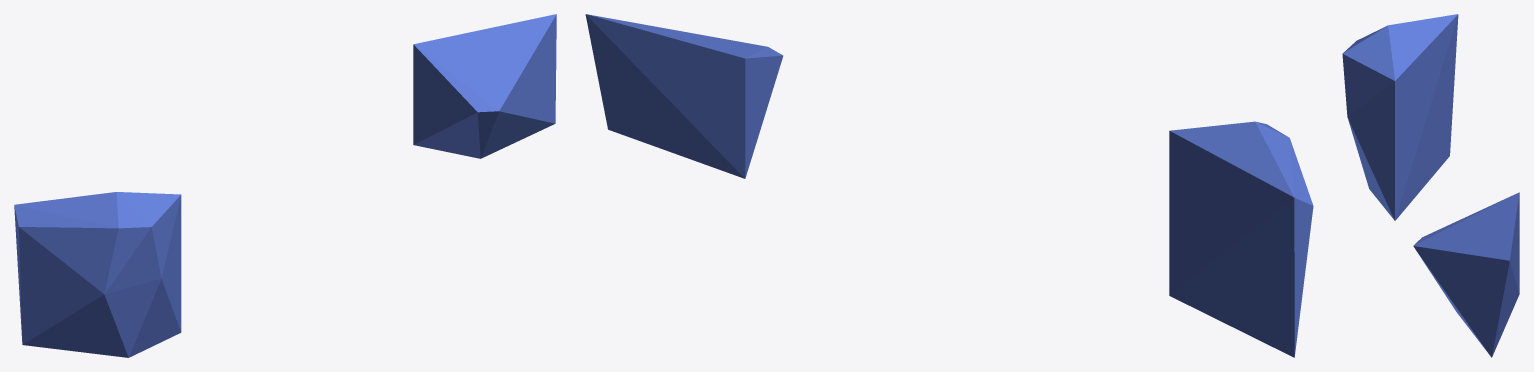
File: Cliff_Wall_In_02_Collider_01.FBX
3 views of the same model, side by side, from view 1: azimuth 30°, elevation 25°; view 2: azimuth 150°, elevation 25°; view 3: azimuth 270°, elevation 25° (orthographic). The views are drawn at different scales.
Visible parts, largest first — view 1: COLLIDER24, COLLIDER21; view 2: COLLIDER24, COLLIDER21; view 3: COLLIDER24, COLLIDER21.
Boxes of the visible parts, left/top/right/bottom form: COLLIDER24: left=14, top=192, right=181, bottom=357; COLLIDER21: left=413, top=14, right=556, bottom=158; COLLIDER24: left=1169, top=121, right=1313, bottom=357; COLLIDER21: left=585, top=14, right=783, bottom=178; COLLIDER24: left=1342, top=14, right=1458, bottom=220; COLLIDER21: left=1413, top=192, right=1519, bottom=357.
Size of the model in its own units: 576 by 165 by 152.
